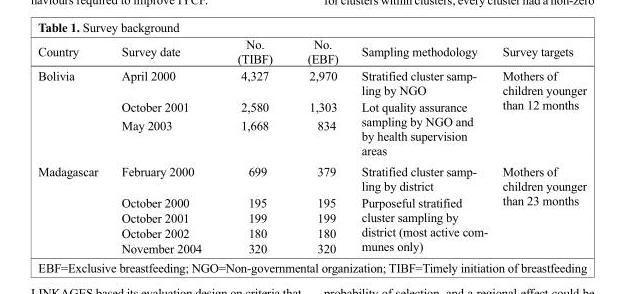table: (37, 36, 585, 255)
table column: (349, 36, 494, 255), (109, 36, 218, 255), (494, 36, 585, 255), (37, 36, 109, 255), (218, 36, 289, 255), (289, 36, 349, 255)
table column header: (37, 36, 585, 66)
table row: (37, 115, 585, 160), (37, 160, 585, 193), (37, 66, 585, 98), (37, 36, 585, 66), (37, 98, 585, 115), (37, 193, 585, 209), (37, 209, 585, 225), (37, 225, 585, 240), (37, 240, 585, 255)
table spanning cell: (349, 98, 494, 160), (349, 193, 494, 255), (494, 160, 585, 255), (494, 66, 585, 160), (37, 160, 109, 255), (37, 66, 109, 160)
